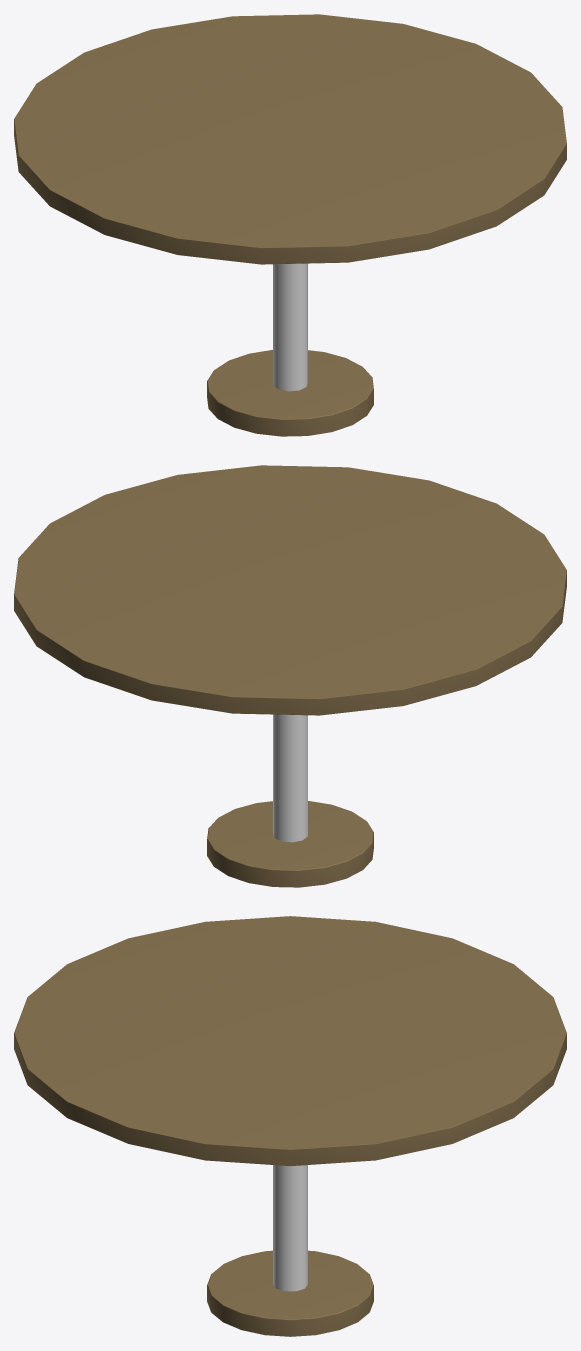
Rendered from Table_02.fbx.
The picture shows the model from 3 angles, top to bottom: view 1: azimuth 30°, elevation 25°; view 2: azimuth 150°, elevation 25°; view 3: azimuth 270°, elevation 25°; orthographic projection.
Parts seen in each view (by area): view 1: BreakTable; view 2: BreakTable; view 3: BreakTable.
Part boxes in pixels (x1,y1,x2,y2): BreakTable: (14, 14, 566, 436); BreakTable: (14, 465, 566, 887); BreakTable: (14, 916, 566, 1336).
Bounding box in the file's own units: 120 × 65.73 × 120.
Materials: 2 (1 with a texture image).
